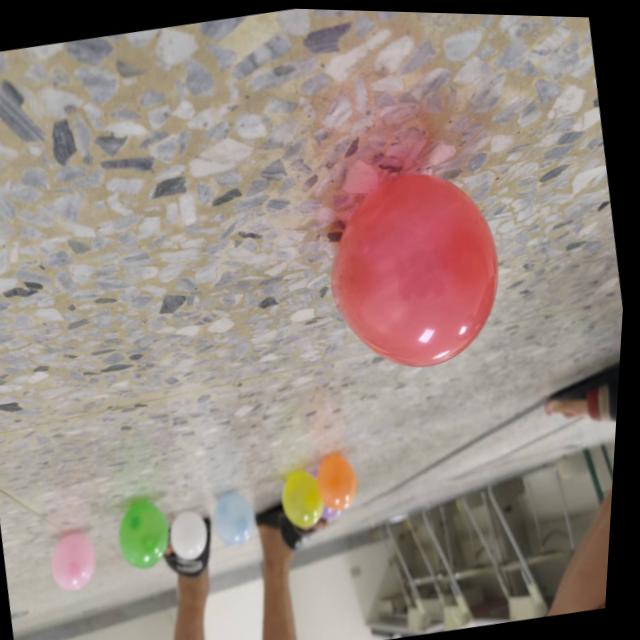other: (117, 495, 182, 574), (315, 447, 370, 514), (53, 529, 108, 595), (280, 464, 334, 529), (215, 492, 264, 549), (170, 505, 218, 563)
red: (309, 152, 523, 383)
